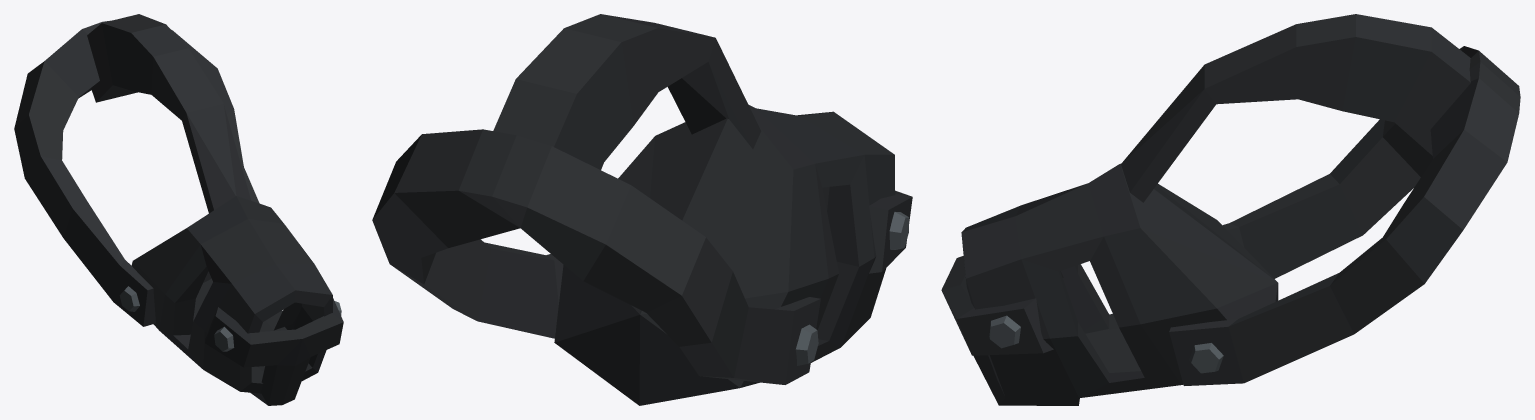
The model's file is SM_Chr_Attach_Head_Muzzle_Small_01.fbx.
The picture shows the model from 3 angles, left to right: view 1: azimuth 30°, elevation 25°; view 2: azimuth 150°, elevation 25°; view 3: azimuth 270°, elevation 25°; orthographic projection. The views are drawn at different scales.
Parts seen in each view (by area): view 1: SM_Chr_Attach_Head_Muzzle_Small_01; view 2: SM_Chr_Attach_Head_Muzzle_Small_01; view 3: SM_Chr_Attach_Head_Muzzle_Small_01.
Part boxes in pixels (x1,y1,x2,y2): SM_Chr_Attach_Head_Muzzle_Small_01: (14, 14, 343, 405); SM_Chr_Attach_Head_Muzzle_Small_01: (372, 14, 912, 405); SM_Chr_Attach_Head_Muzzle_Small_01: (941, 14, 1520, 405).
Size of the model in its own units: 17.96 by 24.4 by 34.16.
